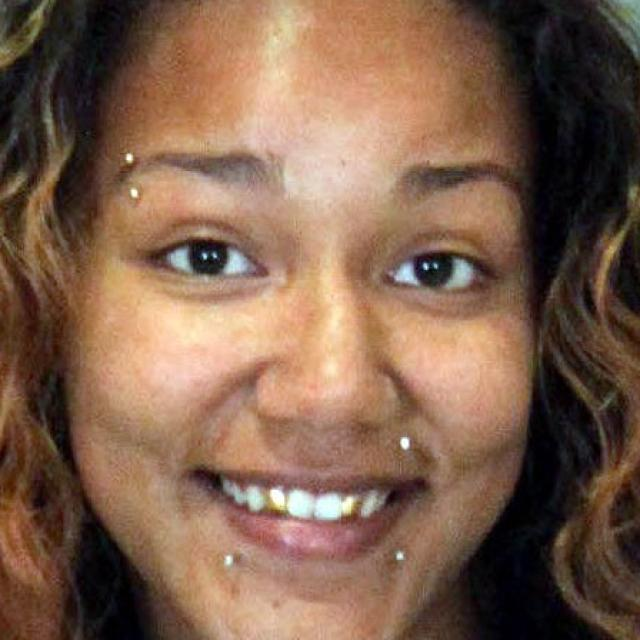Normal: (60, 0, 546, 639)
